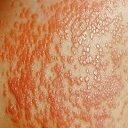Wart: (10, 16, 121, 116)
